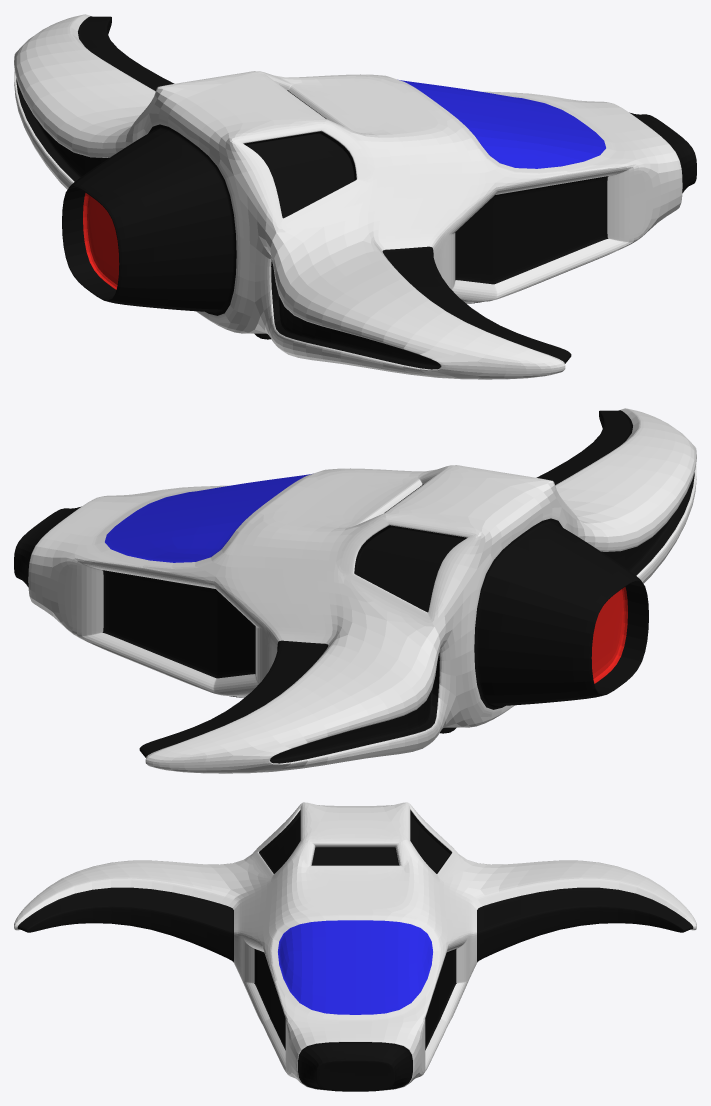
The model's file is Jugador.fbx.
The picture shows the model from 3 angles, top to bottom: view 1: azimuth 30°, elevation 25°; view 2: azimuth 150°, elevation 25°; view 3: azimuth 270°, elevation 25°; orthographic projection. The views are drawn at different scales.
Visible parts, largest first — view 1: Cube; view 2: Cube; view 3: Cube.
Part boxes in pixels (x1=…): Cube: x1=14, y1=14, x2=696, y2=379; Cube: x1=14, y1=408, x2=696, y2=773; Cube: x1=14, y1=802, x2=696, y2=1091.
Bounding box in the file's own units: 1465 × 506 × 2092.
